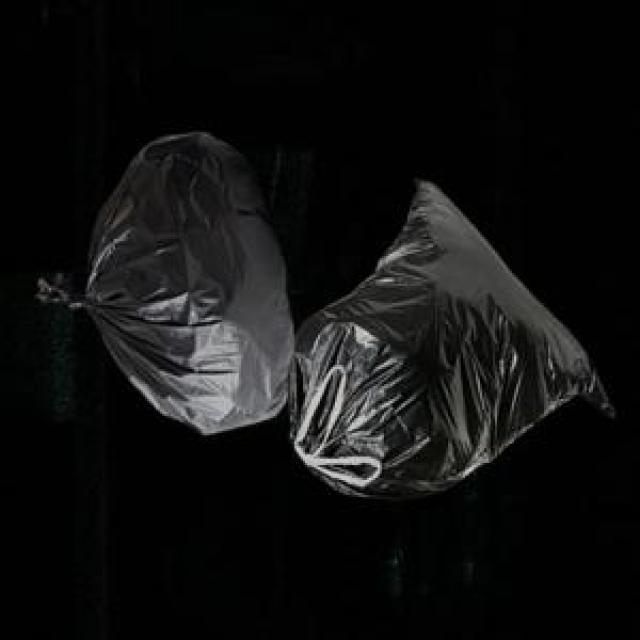waste: (86, 132, 609, 498)
